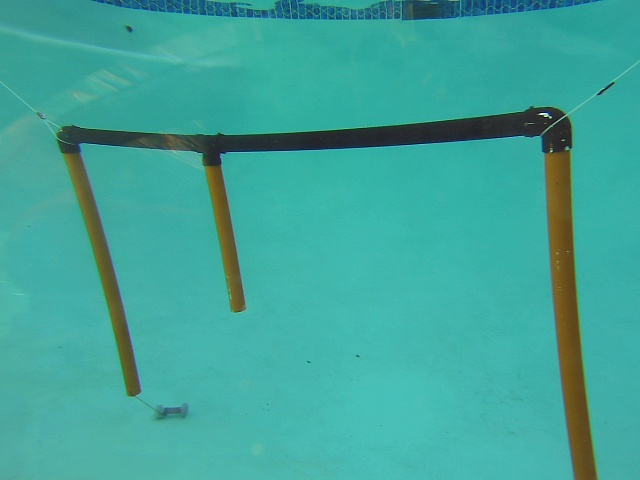Gate: (542, 143, 608, 480), (59, 146, 142, 401), (200, 156, 247, 315)
